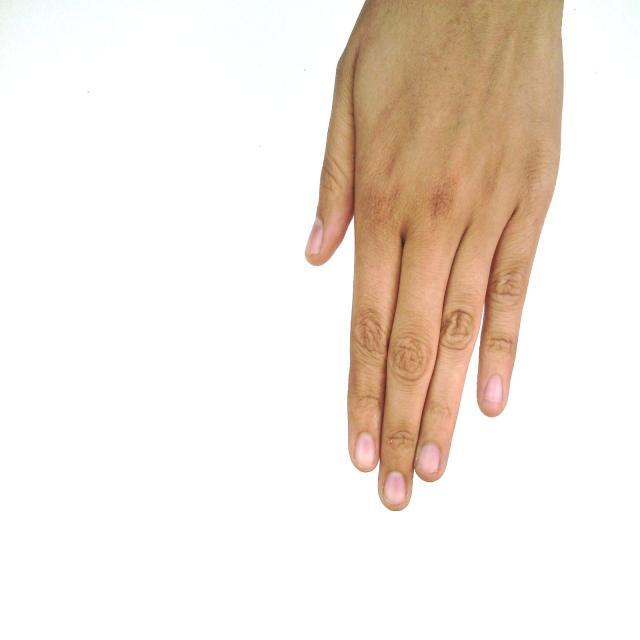Fingernail: (384, 472, 406, 504), (356, 433, 376, 468), (419, 443, 439, 474), (306, 221, 322, 254), (486, 376, 503, 403)
